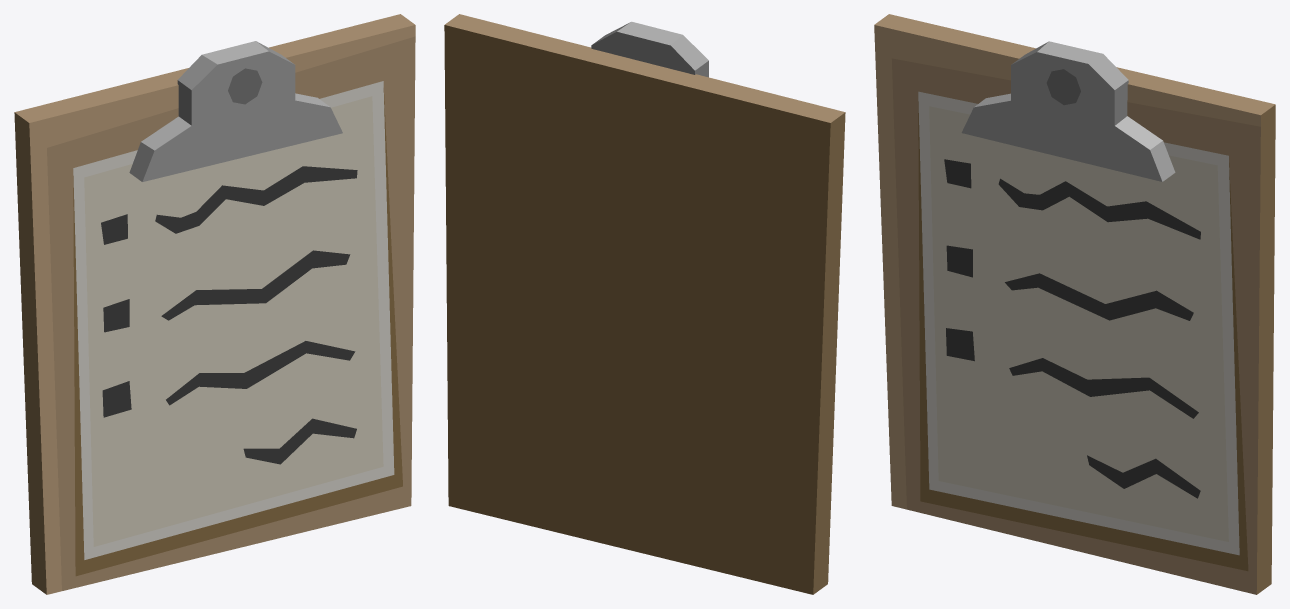
File: tonsOfFunOrderForm.glb
3 renders of one model, left to right at view 1: azimuth 30°, elevation 25°; view 2: azimuth 150°, elevation 25°; view 3: azimuth 330°, elevation 25°, orthographic.
Parts seen in each view (by area): view 1: tonsOfFunOrderForm; view 2: tonsOfFunOrderForm; view 3: tonsOfFunOrderForm.
Boxes of the visible parts, x1,y1,x2,y2 form: tonsOfFunOrderForm: (14, 14, 415, 594); tonsOfFunOrderForm: (444, 14, 845, 594); tonsOfFunOrderForm: (874, 14, 1275, 594).
Size of the model in its own units: 0.3211 by 0.3987 by 0.0404.
